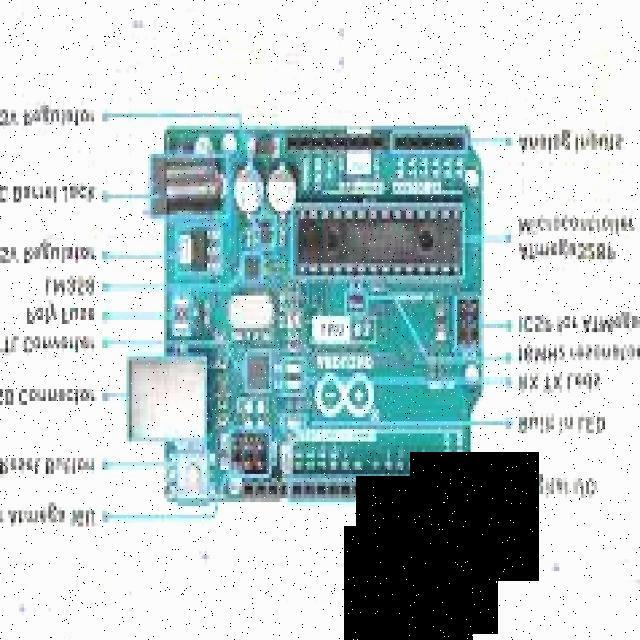arduino: (161, 132, 485, 505)
